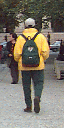person: (19, 18, 46, 111)
